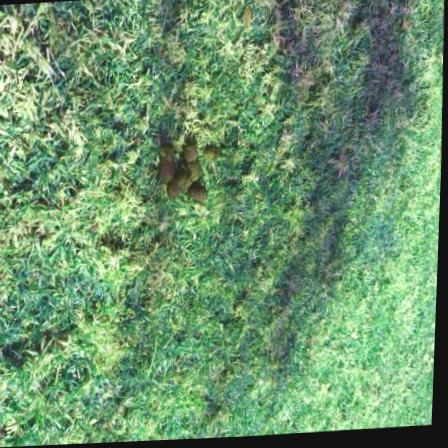dog-poop: (150, 131, 229, 217)
